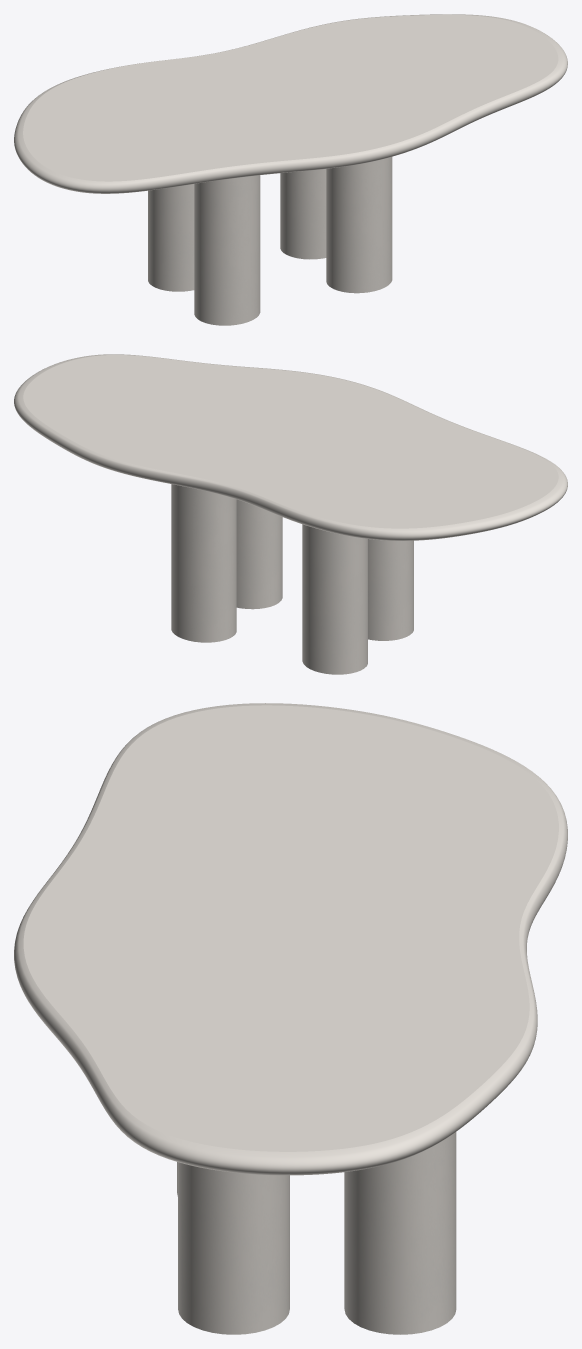
File: pearlwhite_toplast_round_grove.glb
3 renders of one model, top to bottom at view 1: azimuth 30°, elevation 25°; view 2: azimuth 150°, elevation 25°; view 3: azimuth 270°, elevation 25°, orthographic. The views are drawn at different scales.
Parts seen in each view (by area): view 1: round_toplast, grove; view 2: round_toplast, grove; view 3: round_toplast, grove.
Boxes of the visible parts, box(x1,y1,x2,y2) form: round_toplast: box(14, 14, 567, 193); grove: box(148, 157, 392, 325); round_toplast: box(14, 354, 567, 540); grove: box(171, 484, 413, 674); round_toplast: box(14, 703, 567, 1175); grove: box(177, 1132, 456, 1334).
Bounding box in the file's own units: 7.5 × 2.51 × 3.8.
1 material, 1 textured.
